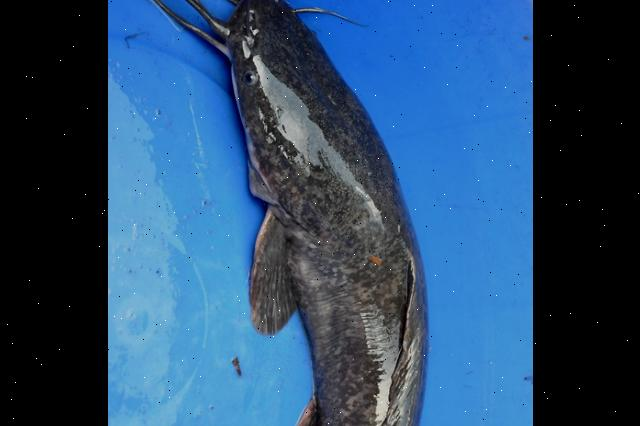Sirip Dada: (223, 188, 314, 342)
Sirip Perut: (270, 377, 344, 426)
Sirip Punggung: (326, 225, 447, 426)
